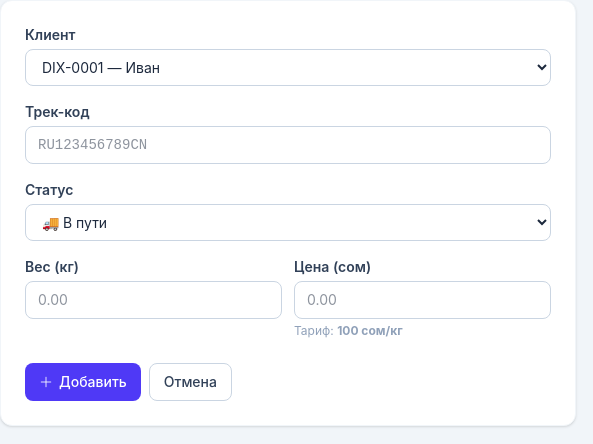
Test: PackageNewView › auto-calculates price from weight using the tariff
In the number field with placeholder "0.00" below "Вес (кг)": (154, 300) [25, 281, 282, 319], type "2.5"
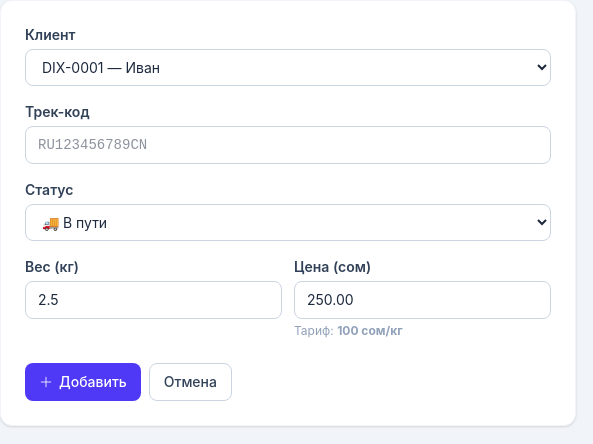
Expected: the number field with placeholder "0.00" below "Цена (сом)" holds "250.00", [294, 281, 551, 319]
